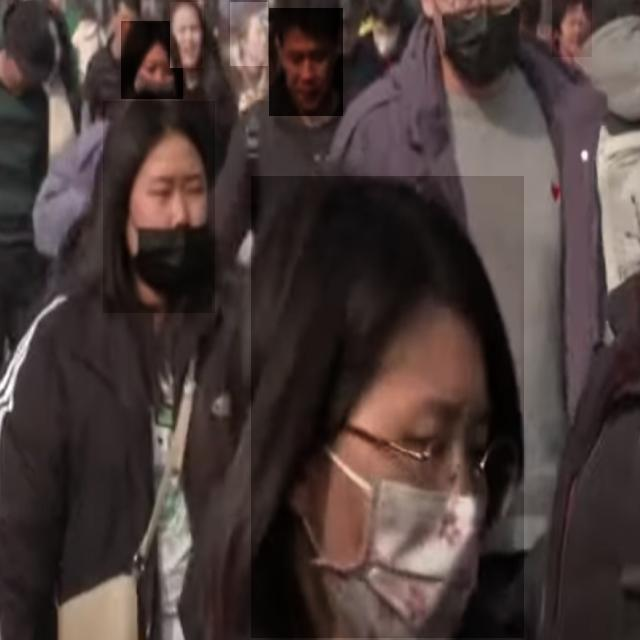hairnet: (103, 188, 215, 313)
mask: (251, 450, 524, 638), (431, 0, 528, 96), (121, 62, 183, 99)
no_gloves: (248, 180, 525, 441), (99, 111, 210, 186), (275, 8, 340, 53), (119, 23, 178, 66), (161, 0, 205, 26)
no_hairnet: (269, 59, 343, 116), (552, 22, 592, 57), (170, 27, 204, 68), (230, 37, 268, 66)
